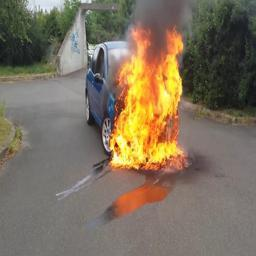fire: (108, 25, 186, 166)
